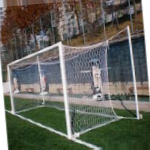goals: (6, 40, 120, 139)
